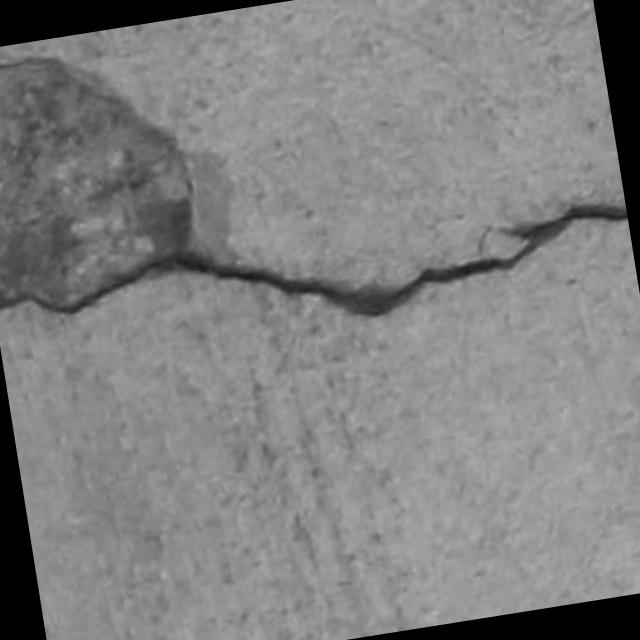crack: (0, 63, 628, 318), (0, 204, 627, 316)
